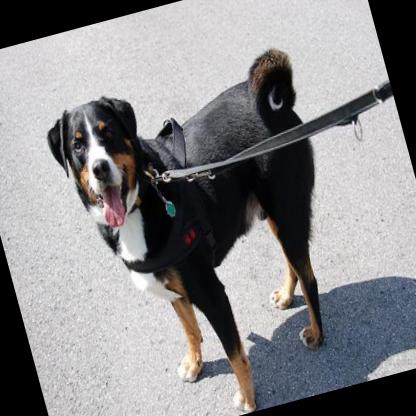Appenzeller: (37, 42, 374, 416)
